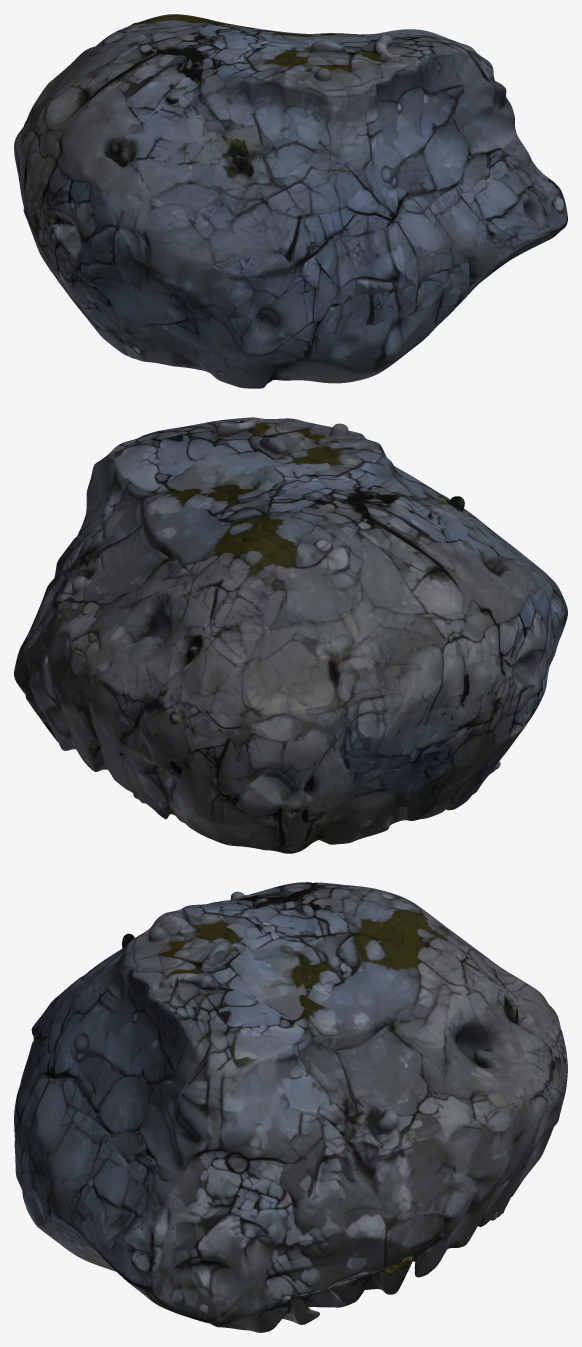
Rendered from rock.glb.
3 views of the same model, one above another, from view 1: azimuth 30°, elevation 25°; view 2: azimuth 150°, elevation 25°; view 3: azimuth 270°, elevation 25° (orthographic). The views are drawn at different scales.
Visible parts, largest first — view 1: tripo_node_fda7ecad-6f97-46ab-8fc9-cfe12854aa34; view 2: tripo_node_fda7ecad-6f97-46ab-8fc9-cfe12854aa34; view 3: tripo_node_fda7ecad-6f97-46ab-8fc9-cfe12854aa34.
Part boxes in pixels (left/top/right/bottom): tripo_node_fda7ecad-6f97-46ab-8fc9-cfe12854aa34: left=14, top=14, right=567, bottom=388; tripo_node_fda7ecad-6f97-46ab-8fc9-cfe12854aa34: left=14, top=417, right=567, bottom=853; tripo_node_fda7ecad-6f97-46ab-8fc9-cfe12854aa34: left=14, top=882, right=567, bottom=1332.
Size of the model in its own units: 1 by 0.6002 by 0.9324.
Materials: 1 (1 with a texture image).
